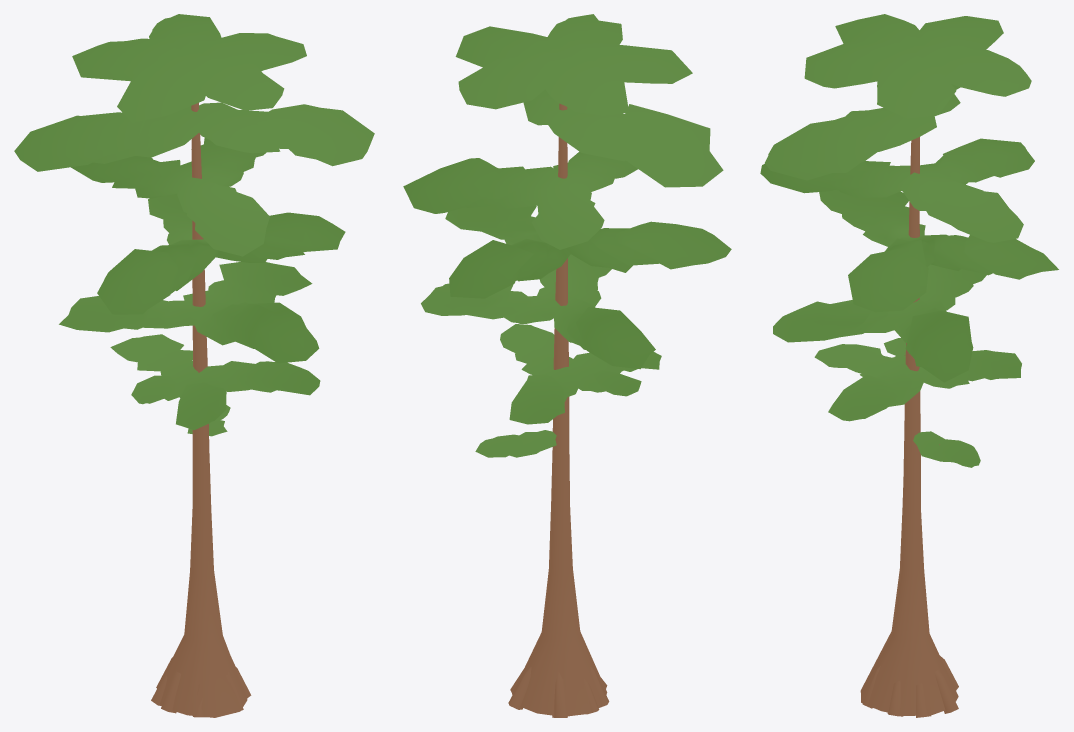
Rendered from Blender_BaldCypress_1.glb.
The picture shows the model from 3 angles, left to right: view 1: azimuth 30°, elevation 25°; view 2: azimuth 150°, elevation 25°; view 3: azimuth 270°, elevation 25°; orthographic projection.
Parts seen in each view (by area): view 1: Blender_BaldCypress_1; view 2: Blender_BaldCypress_1; view 3: Blender_BaldCypress_1.
Boxes of the visible parts, <box> form: Blender_BaldCypress_1: <box>14,14,374,717</box>; Blender_BaldCypress_1: <box>403,14,731,717</box>; Blender_BaldCypress_1: <box>760,14,1058,717</box>.
Bounding box in the file's own units: 13.96 × 29.9 × 12.36.
